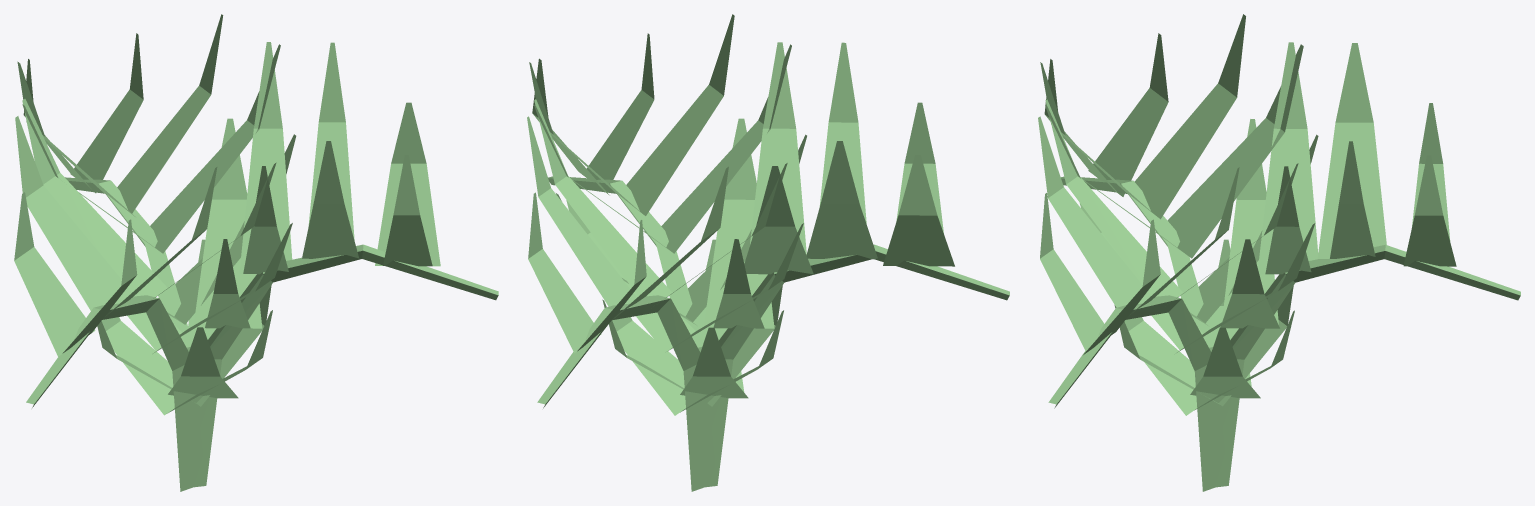
Rendered from nature_fern_single.glb.
3 renders of one model, left to right at view 1: azimuth 30°, elevation 25°; view 2: azimuth 150°, elevation 25°; view 3: azimuth 270°, elevation 25°, orthographic.
Visible parts, largest first — view 1: world; view 2: world; view 3: world.
Part boxes in pixels (x1,y1,x2,y2): world: [14, 14, 498, 491]; world: [527, 14, 1009, 491]; world: [1038, 14, 1520, 491].
Bounding box in the file's own units: 2 × 1.61 × 1.79.
